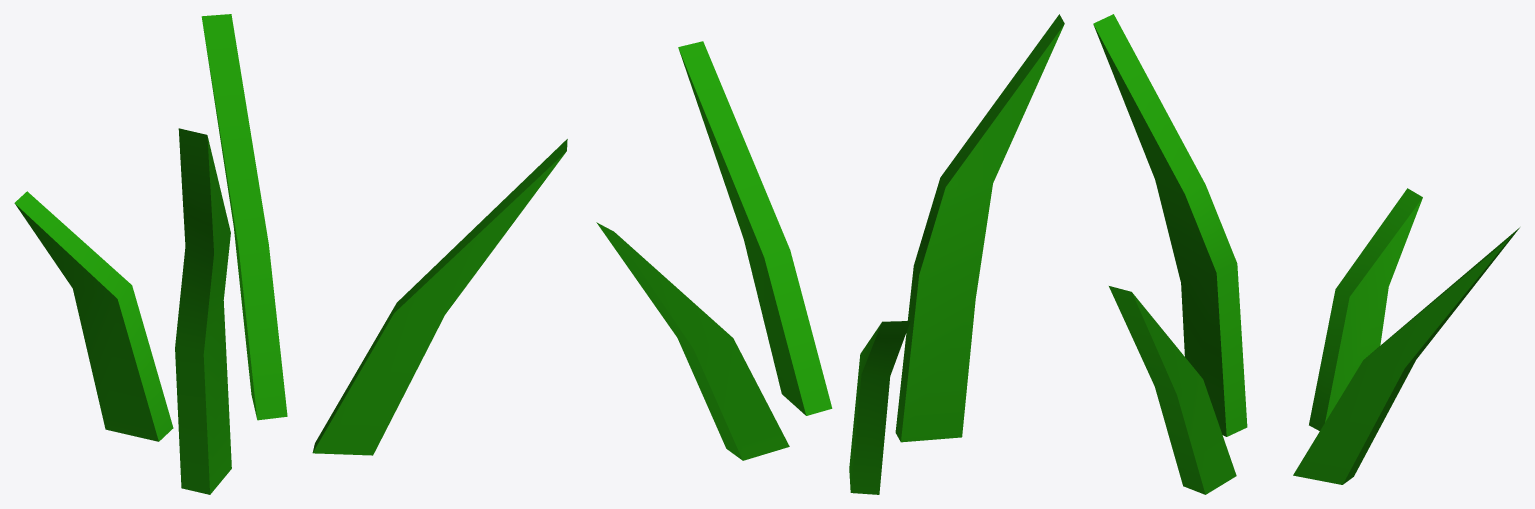
The model's file is SM_Wheat_Seed_1.FBX.
3 views of the same model, side by side, from view 1: azimuth 30°, elevation 25°; view 2: azimuth 150°, elevation 25°; view 3: azimuth 270°, elevation 25° (orthographic). The views are drawn at different scales.
Parts seen in each view (by area): view 1: Object036; view 2: Object036; view 3: Object036.
Part boxes in pixels (x1,y1,x2,y2): Object036: [14, 14, 567, 494]; Object036: [596, 14, 1064, 494]; Object036: [1093, 14, 1519, 494].
Bounding box in the file's own units: 0.9891 × 0.9812 × 1.02.
